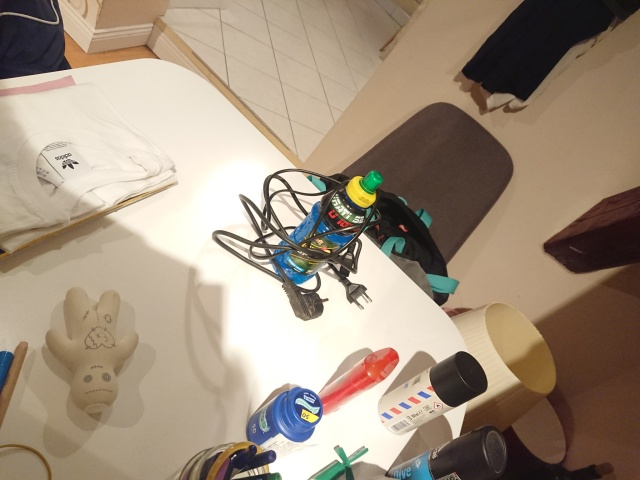Vindi Iso Sport Forest Strawberries 500mL: (270, 167, 384, 285)
